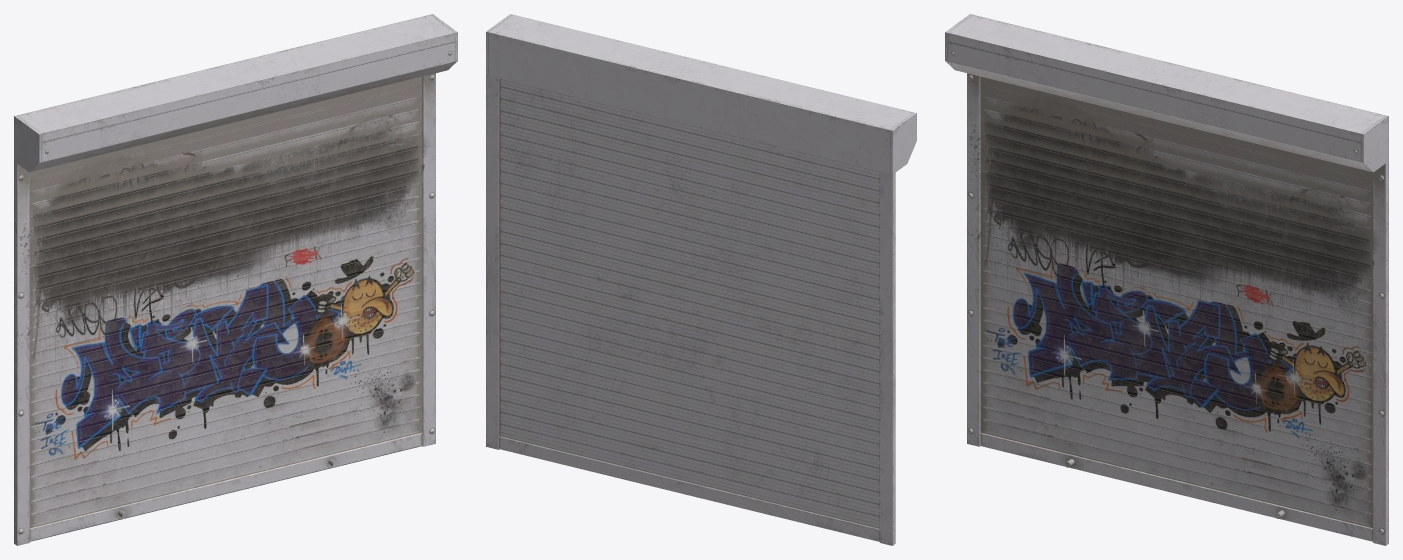
File: shutter.glb
3 views of the same model, side by side, from view 1: azimuth 30°, elevation 25°; view 2: azimuth 150°, elevation 25°; view 3: azimuth 330°, elevation 25° (orthographic). The views are drawn at different scales.
Visible parts, largest first — view 1: rollershutter_window_02_graffiti; view 2: rollershutter_window_02_graffiti; view 3: rollershutter_window_02_graffiti.
Boxes of the visible parts, x1,y1,x2,y2 form: rollershutter_window_02_graffiti: (14,14,457,545); rollershutter_window_02_graffiti: (486,14,916,545); rollershutter_window_02_graffiti: (945,14,1388,545).
Size of the model in its own units: 1.6 by 1.56 by 0.1681.
Materials: 1 (1 with a texture image).
